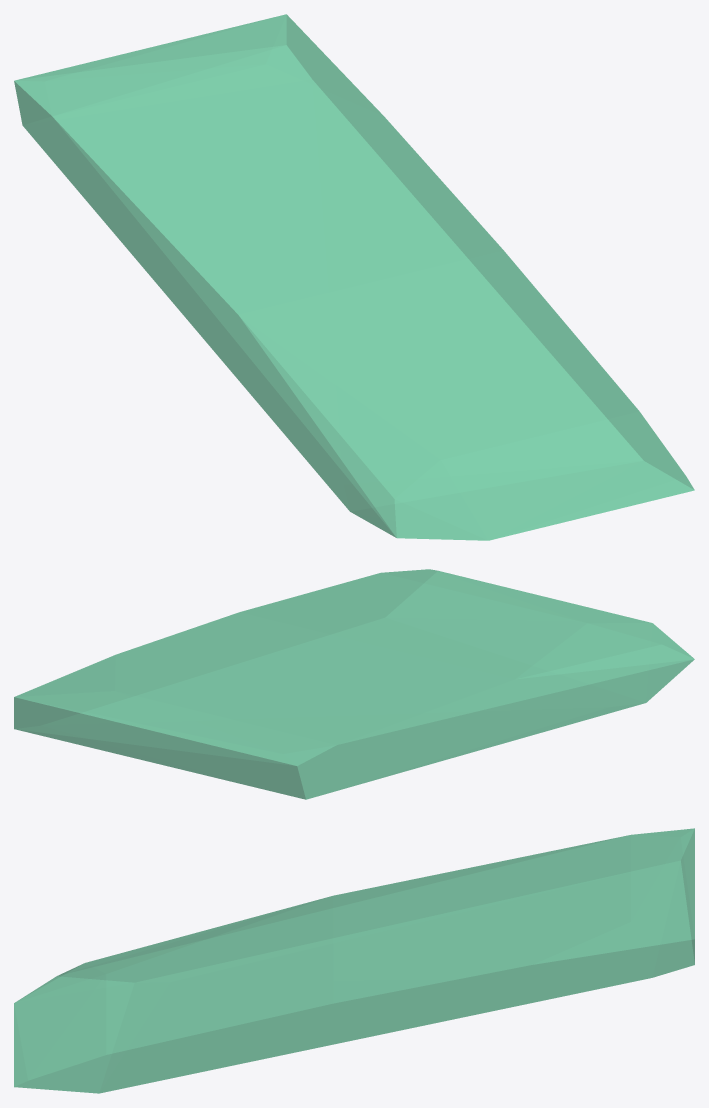
The picture shows the model from 3 angles, top to bottom: view 1: azimuth 30°, elevation 25°; view 2: azimuth 150°, elevation 25°; view 3: azimuth 270°, elevation 25°; orthographic projection. The views are drawn at different scales.
Parts seen in each view (by area): view 1: Shape_IndexedFaceSet.032_Shape_IndexedFaceSet.14065; view 2: Shape_IndexedFaceSet.032_Shape_IndexedFaceSet.14065; view 3: Shape_IndexedFaceSet.032_Shape_IndexedFaceSet.14065.
Part boxes in pixels (x1=…): Shape_IndexedFaceSet.032_Shape_IndexedFaceSet.14065: x1=14, y1=14, x2=694, y2=540; Shape_IndexedFaceSet.032_Shape_IndexedFaceSet.14065: x1=14, y1=569, x2=694, y2=799; Shape_IndexedFaceSet.032_Shape_IndexedFaceSet.14065: x1=14, y1=828, x2=694, y2=1093.
Size of the model in its own units: 0.1237 by 0.0803 by 0.321.
